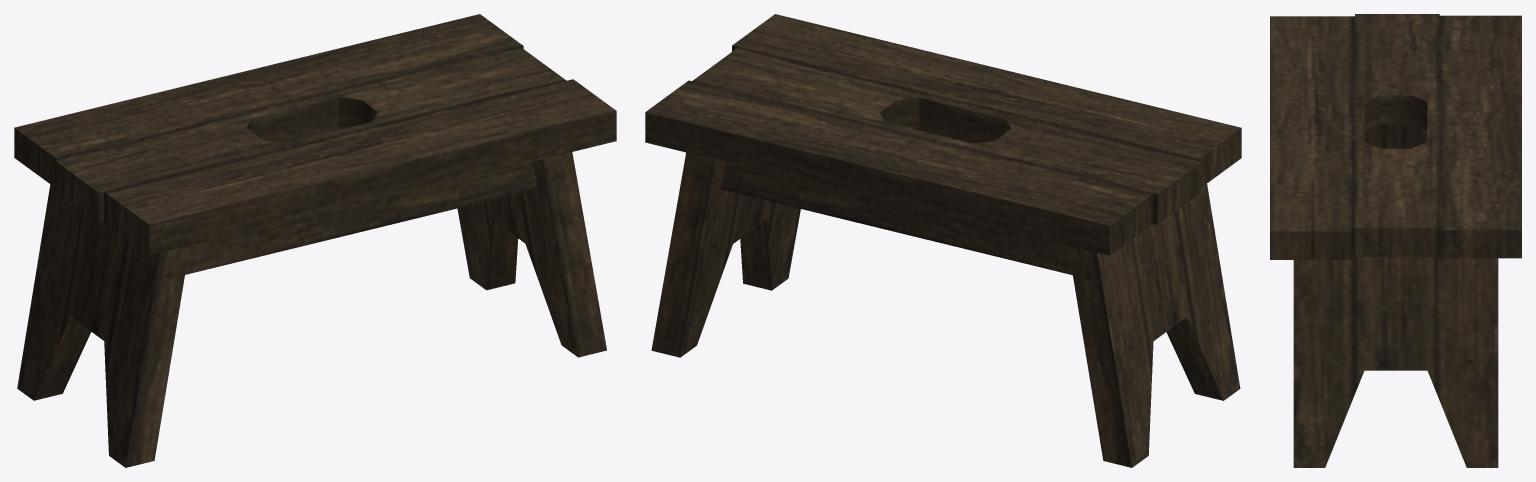
File: stool_mx_1_2.obj
The picture shows the model from 3 angles, left to right: view 1: azimuth 30°, elevation 25°; view 2: azimuth 150°, elevation 25°; view 3: azimuth 270°, elevation 25°; orthographic projection. The views are drawn at different scales.
Visible parts, largest first — view 1: stool_mx_1_2; view 2: stool_mx_1_2; view 3: stool_mx_1_2.
Boxes of the visible parts, left/top/right/bottom form: stool_mx_1_2: left=14, top=14, right=616, bottom=467; stool_mx_1_2: left=645, top=14, right=1241, bottom=467; stool_mx_1_2: left=1270, top=14, right=1521, bottom=467.
Bounding box in the file's own units: 0.6665 × 0.33 × 0.32.
